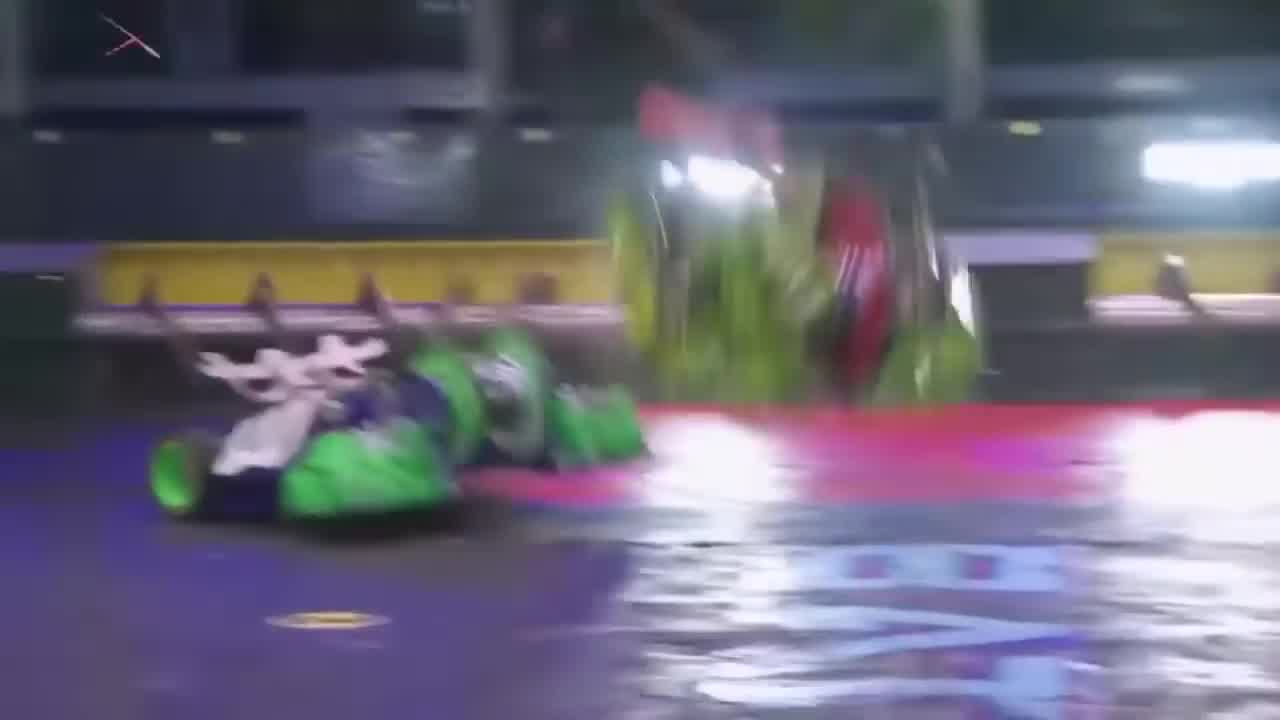combatbot: (583, 84, 986, 407), (149, 321, 645, 530)
